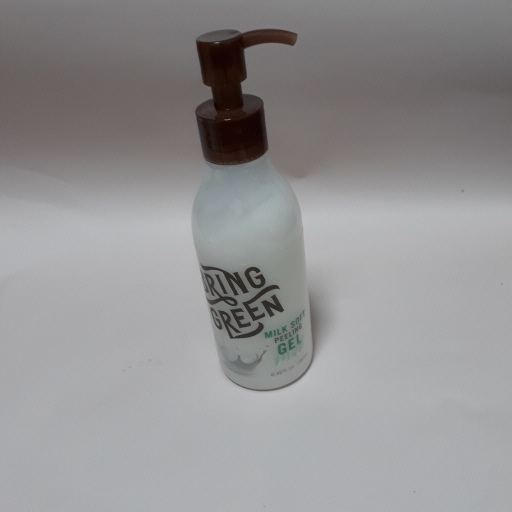Plastic_3: (185, 24, 318, 390)
